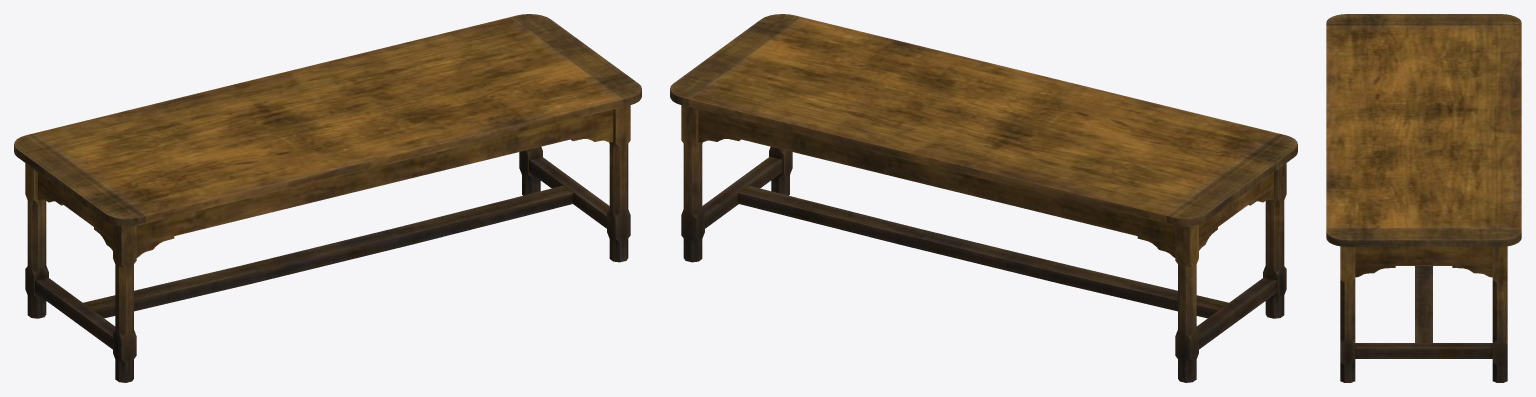
Rendered from WoodenTable_01.glb.
3 views of the same model, side by side, from view 1: azimuth 30°, elevation 25°; view 2: azimuth 150°, elevation 25°; view 3: azimuth 270°, elevation 25° (orthographic). The views are drawn at different scales.
Visible parts, largest first — view 1: c13_wood, c12_wood, c09_wood, c05_wood, c06_wood, c14_wood, c07_wood, c03_wood, c02_wood; view 2: c13_wood, c12_wood, c11_wood, c05_wood, c06_wood, c14_wood, c07_wood, c03_wood, c02_wood; view 3: c13_wood, c12_wood, c02_wood, c06_wood.
Boxes of the visible parts, left/top/right/bottom form: c13_wood: left=14, top=14, right=641, bottom=218; c12_wood: left=25, top=105, right=630, bottom=382; c09_wood: left=136, top=109, right=613, bottom=257; c05_wood: left=93, top=193, right=573, bottom=318; c06_wood: left=138, top=89, right=641, bottom=224; c14_wood: left=38, top=172, right=112, bottom=250; c07_wood: left=14, top=144, right=138, bottom=226; c03_wood: left=35, top=280, right=112, bottom=349; c02_wood: left=529, top=160, right=606, bottom=228; c13_wood: left=670, top=14, right=1297, bottom=218; c12_wood: left=681, top=105, right=1286, bottom=382; c11_wood: left=698, top=109, right=1175, bottom=257; c05_wood: left=738, top=193, right=1218, bottom=318; c06_wood: left=670, top=89, right=1173, bottom=224; c14_wood: left=1199, top=172, right=1273, bottom=250; c07_wood: left=1173, top=144, right=1297, bottom=226; c03_wood: left=1199, top=280, right=1276, bottom=349; c02_wood: left=705, top=160, right=782, bottom=228; c13_wood: left=1326, top=14, right=1521, bottom=240; c12_wood: left=1340, top=246, right=1507, bottom=382; c02_wood: left=1355, top=348, right=1492, bottom=358; c06_wood: left=1326, top=232, right=1521, bottom=246.
Size of the model in its own units: 1.8 by 0.5488 by 0.6572.
1 material, 1 textured.
